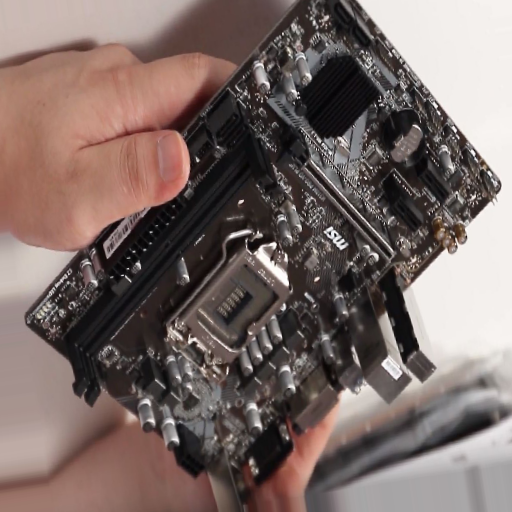CPU: (165, 242, 292, 383)
GPU: (280, 138, 396, 262)
MOTHERBOARD: (28, 3, 499, 480)
RAM: (71, 137, 279, 402)
